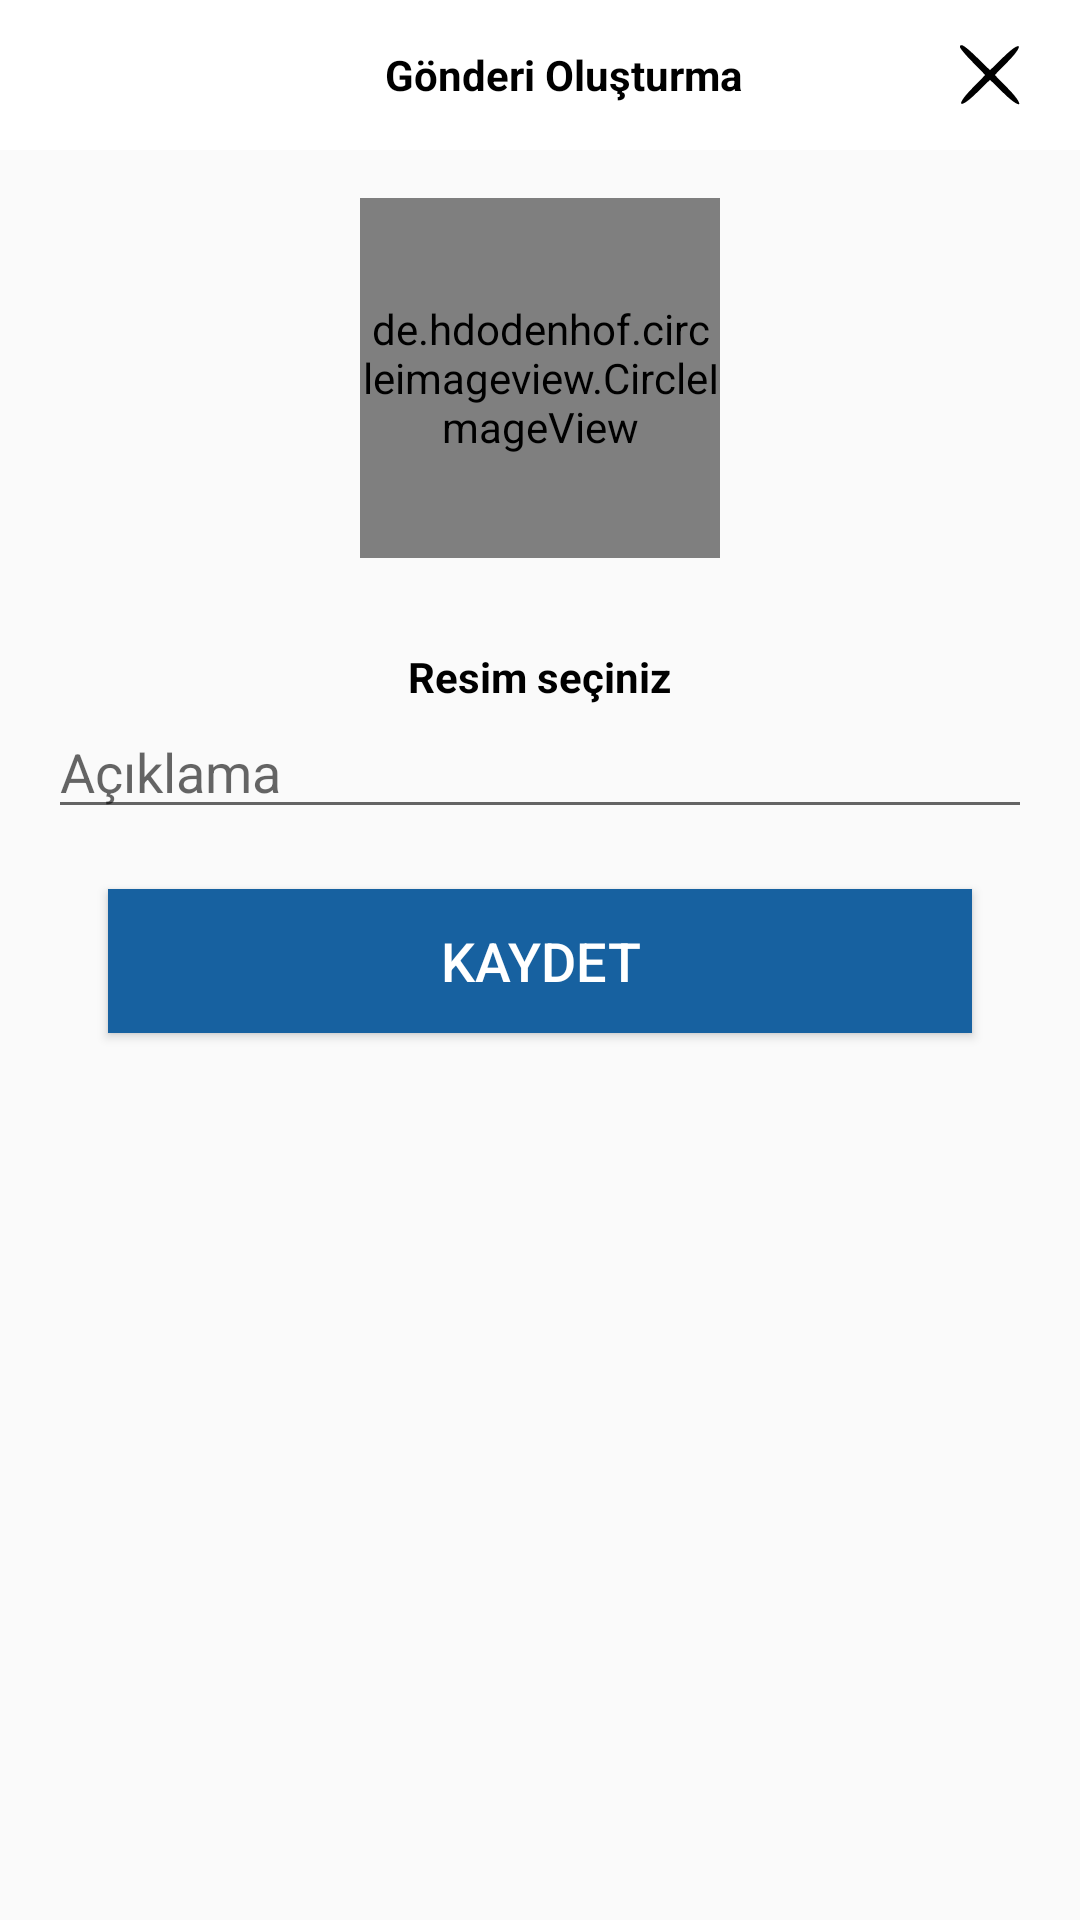

Screen size 1080*1920. Icon name, then its center in pixels as point (x, y):
multiplication: point (990, 75)
